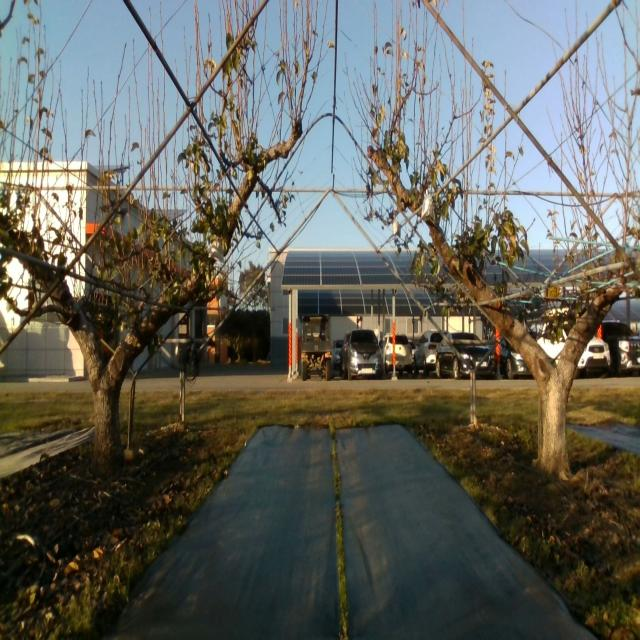pearbags: (421, 190, 435, 220), (208, 239, 225, 262)
